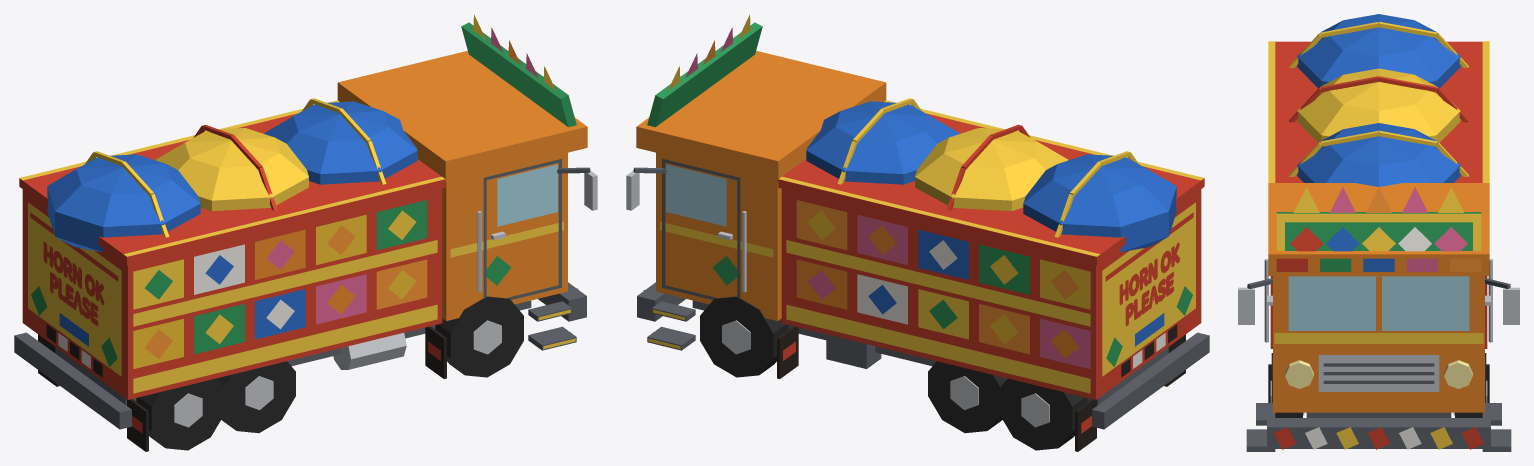
The model's file is truck.glb.
3 renders of one model, left to right at view 1: azimuth 30°, elevation 25°; view 2: azimuth 150°, elevation 25°; view 3: azimuth 270°, elevation 25°, orthographic. The views are drawn at different scales.
Visible parts, largest first — view 1: truck; view 2: truck; view 3: truck.
Part boxes in pixels (x1,y1,x2,y2): truck: (14, 14, 597, 451); truck: (626, 14, 1209, 451); truck: (1238, 14, 1519, 451).
Size of the model in its own units: 4.72 by 2.65 by 2.34.
1 material, 1 textured.
